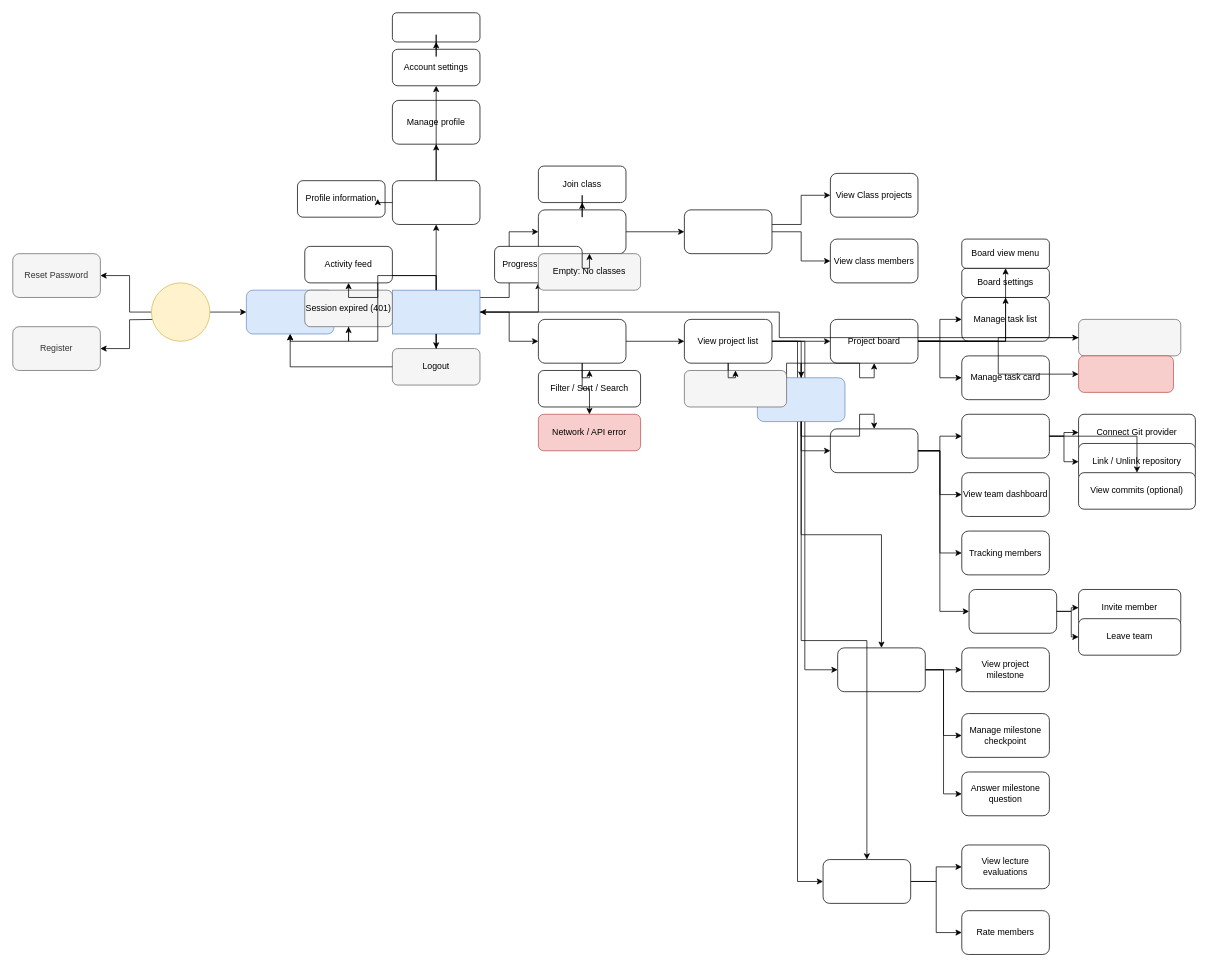
Some shapes in this 1208 by 967 pixel diagram are drawn without their labels. Here are the shapes that lost their labels. From the top down, the box of each, then its label:
(392, 12, 480, 42): Change password
(392, 180, 480, 224): Profile page
(538, 209, 626, 254): Classes page
(684, 209, 772, 254): View class detail
(151, 282, 210, 341): Student
(246, 289, 334, 334): Login
(392, 289, 480, 334): Home page
(538, 319, 626, 363): Projects page
(1078, 319, 1181, 356): Access denied (403)
(684, 370, 787, 407): Empty: No projects
(1078, 355, 1173, 392): Not found (404)
(757, 377, 845, 422): Project detail
(830, 428, 918, 473): Team workspace
(961, 414, 1049, 458): Manage git
(968, 589, 1057, 633): Manage members
(837, 647, 925, 692): Milestone & Checkpoint
(822, 859, 911, 903): Peer evaluation
